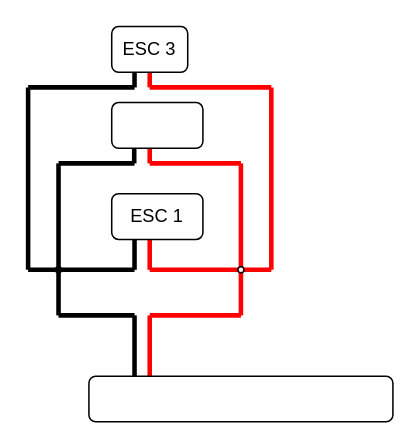
Some shapes in this 420 by 448 pixel diagram are drawn without their labels. The box of each missing label's shape, as (x1, y1, x2, y2) in pixels:
Battery: (87, 375, 393, 422)
ESC 2: (110, 101, 203, 148)
